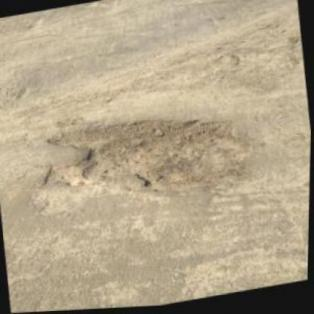Hueco: (37, 97, 262, 221)
